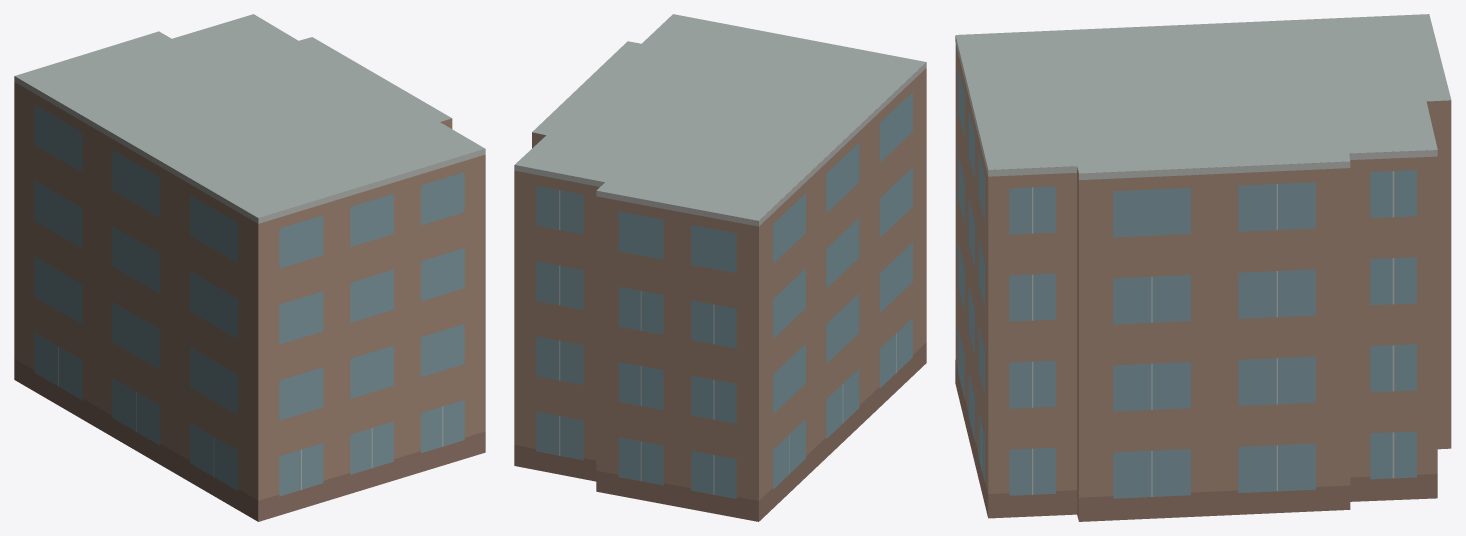
The model's file is survey-upis-32654159.glb.
3 renders of one model, left to right at view 1: azimuth 30°, elevation 25°; view 2: azimuth 150°, elevation 25°; view 3: azimuth 270°, elevation 25°, orthographic. The views are drawn at different scales.
Visible parts, largest first — view 1: survey-upis-32654159.tmp; view 2: survey-upis-32654159.tmp; view 3: survey-upis-32654159.tmp.
Boxes of the visible parts, box(x1,y1,x2,y2) form: survey-upis-32654159.tmp: box(14, 14, 485, 521); survey-upis-32654159.tmp: box(514, 14, 926, 521); survey-upis-32654159.tmp: box(955, 14, 1451, 521).
Bounding box in the file's own units: 12.58 × 12.8 × 16.53.
